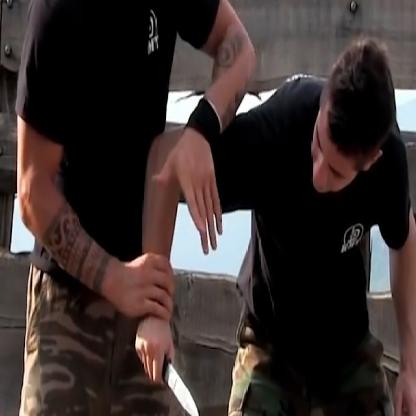knife: (132, 323, 204, 415)
